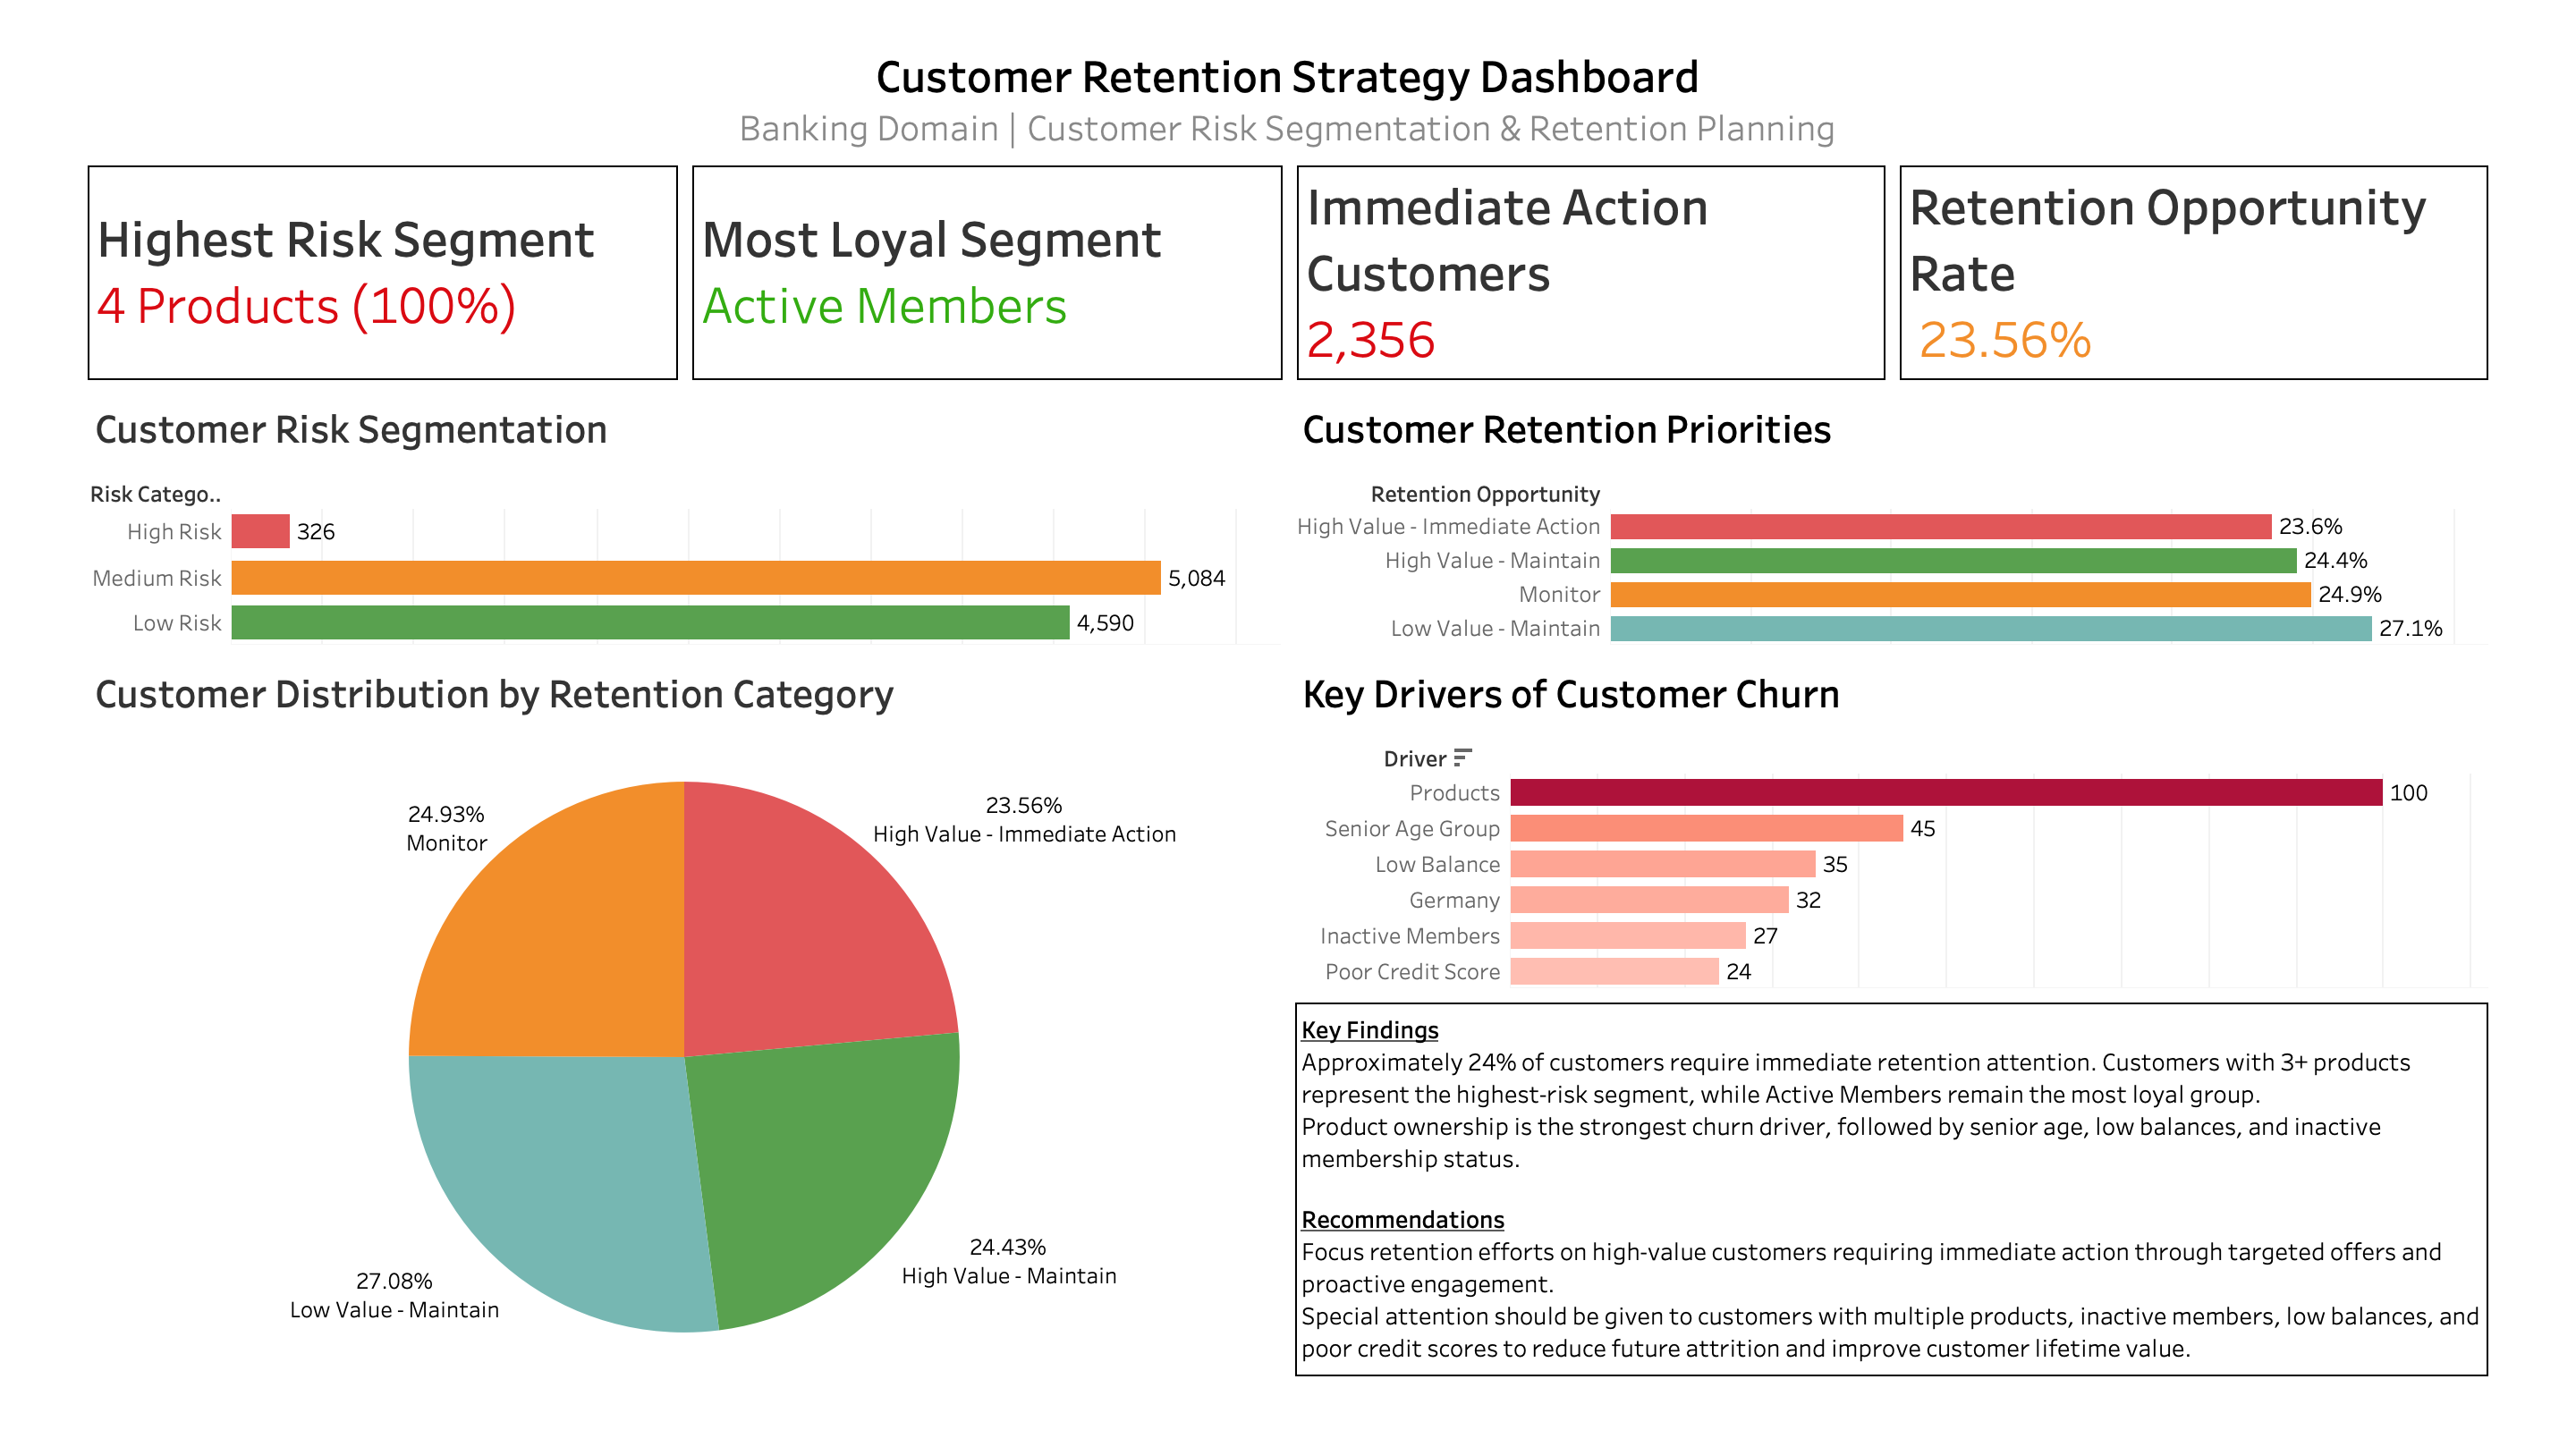

The page's visual inventory and layout, read from the dashboard file:
{"tool":"tableau","page":{"name":"Customer Retention Strategy Dashboard","canvas":[1366,768],"ordinal":1},"visuals":[{"type":"text","box":[8,8,1350,67]},{"type":"worksheet","title":"KPI - Highest Risk Segment","mark":"Automatic","box":[8,75,338,128]},{"type":"worksheet","title":"KPI - Most Loyal Customer Group","mark":"Automatic","box":[346,75,338,128]},{"type":"worksheet","title":"KPI -  Immediate Action Customers","mark":"Automatic","box":[684,75,337,128]},{"type":"worksheet","title":"KPI – Retention Opportunity Rate","mark":"Automatic","box":[1021,75,337,128]},{"type":"worksheet","title":"Customer Risk Segmentation","mark":"Bar","rows":["Calculation_3465122007810063"],"cols":["CustomerId"],"box":[8,203,675,148]},{"type":"worksheet","title":"Retention Opportunity Matrix","mark":"Automatic","rows":["Calculation_3465122016821265"],"cols":["CustomerId"],"box":[683,203,675,148]},{"type":"worksheet","title":"Customer Distribution by Retention Category","mark":"Pie","box":[8,351,675,409]},{"type":"worksheet","title":"Key Drivers of Customer Churn","mark":"Automatic","rows":["Driver"],"cols":["Impact"],"box":[683,351,675,192]},{"type":"text","box":[683,543,675,217]}]}

Visuals, with their boxes in screenshot pixels (x1, y1, x2, y2), scaled from the page's 1366x768 canvas onto the 2576x1430 screenshot:
text: bbox=[15, 15, 2561, 140]
"KPI - Highest Risk Segment" worksheet: bbox=[15, 140, 652, 378]
"KPI - Most Loyal Customer Group" worksheet: bbox=[652, 140, 1290, 378]
"KPI -  Immediate Action Customers" worksheet: bbox=[1290, 140, 1926, 378]
"KPI – Retention Opportunity Rate" worksheet: bbox=[1926, 140, 2561, 378]
"Customer Risk Segmentation" worksheet (Bar marks): bbox=[15, 378, 1288, 654]
"Retention Opportunity Matrix" worksheet: bbox=[1288, 378, 2561, 654]
"Customer Distribution by Retention Category" worksheet (Pie marks): bbox=[15, 654, 1288, 1415]
"Key Drivers of Customer Churn" worksheet: bbox=[1288, 654, 2561, 1011]
text: bbox=[1288, 1011, 2561, 1415]
